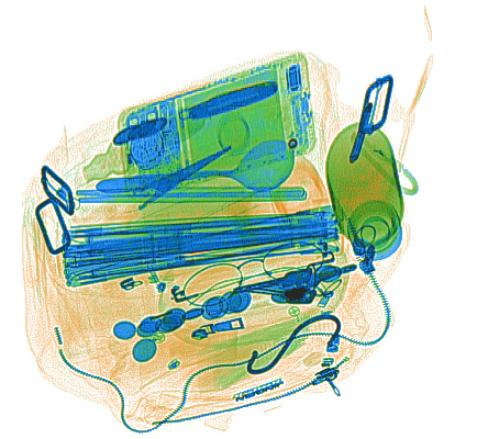knife: (184, 79, 277, 119)
scissors: (96, 143, 236, 232)
